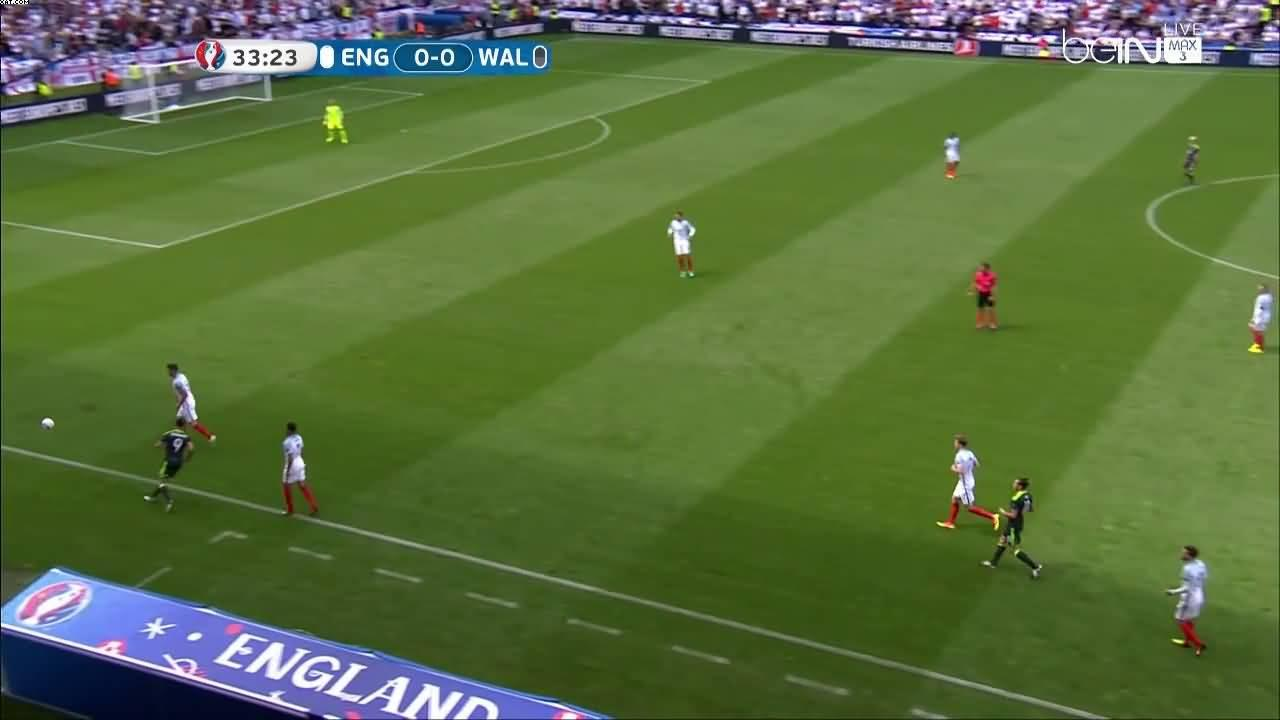ball: (40, 417, 54, 431)
goalkeeper: (323, 98, 348, 145)
player: (980, 476, 1043, 580), (935, 435, 1001, 531), (1165, 546, 1208, 656), (144, 418, 194, 512), (166, 363, 216, 449), (281, 422, 319, 518), (666, 211, 696, 278), (1247, 284, 1273, 355), (943, 132, 960, 182), (1184, 135, 1199, 185)
referee: (969, 263, 998, 330), (1035, 36, 1054, 67)
